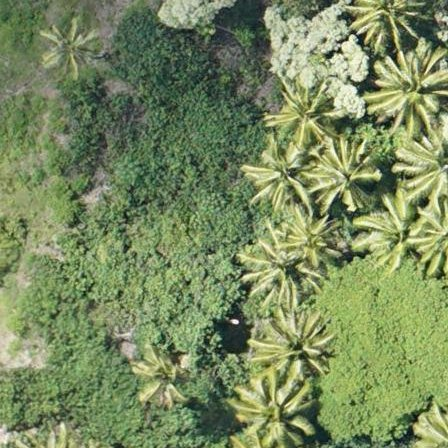palm_tree: (375, 42, 448, 128), (235, 373, 315, 444), (350, 199, 427, 271), (245, 237, 316, 308), (251, 311, 327, 375), (309, 141, 377, 210), (267, 85, 335, 150), (243, 140, 307, 209), (36, 13, 102, 78), (273, 209, 337, 267), (133, 345, 194, 403), (354, 1, 425, 45)
